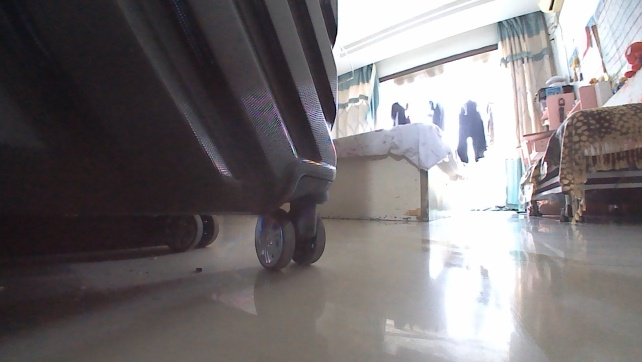bed1: (316, 120, 469, 220)
sofa1: (517, 100, 641, 225)
